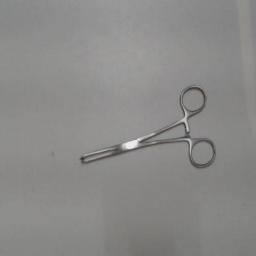Allis Tissue Forceps: (74, 78, 220, 174)
